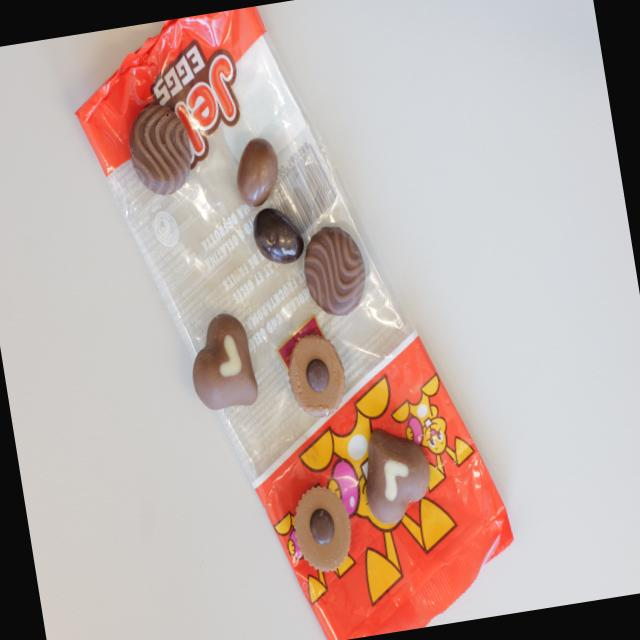Jelly_Black: (248, 202, 308, 268)
Jelly_Milk: (232, 136, 286, 213)
Noblesse: (282, 330, 351, 420), (290, 483, 357, 575)
Noir_authentique: (124, 102, 198, 199), (300, 221, 372, 319)
Passion_au_lait: (358, 422, 438, 526), (184, 310, 262, 414)
